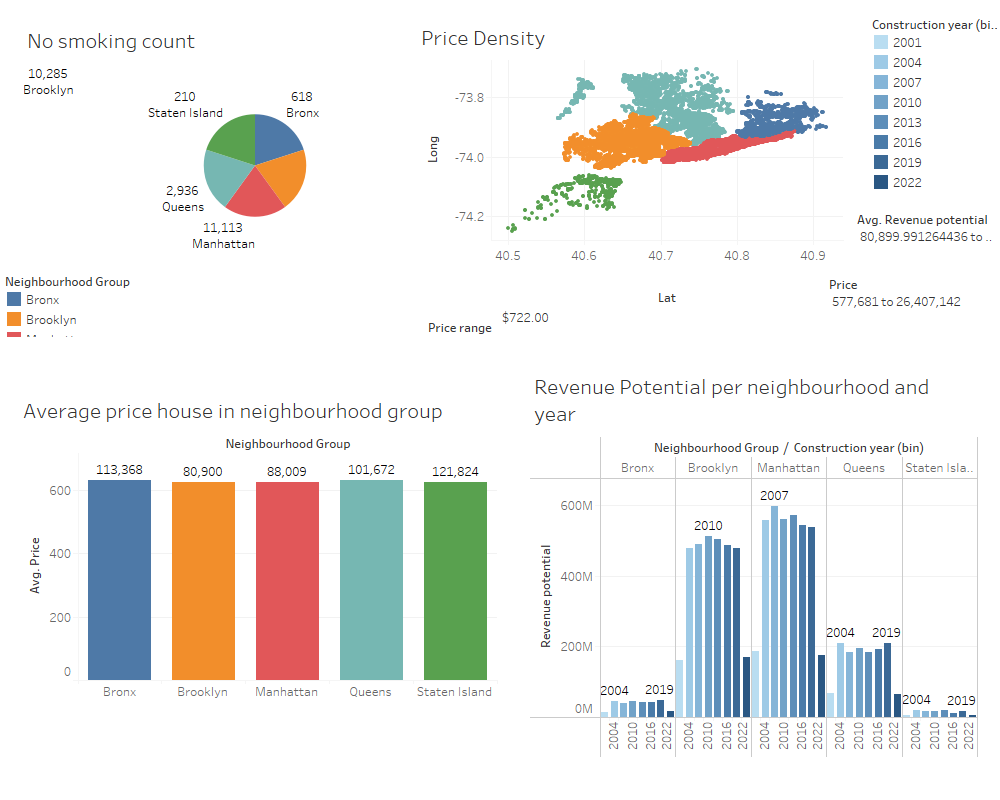

The page's visual inventory and layout, read from the dashboard file:
{"tool":"tableau","page":{"name":"Airbnb Analysis Dashboard","canvas":[1000,800],"ordinal":0},"visuals":[{"type":"legend","title":"Revenue Potential per neighbourhood and year ","param":"[federated.0hstwor1cok9kb1aqlz2915j1omm].[none:Construction year (bin):ok]","box":[871,14,126,178]},{"type":"worksheet","title":"Price Density","mark":"Automatic","rows":["long"],"cols":["lat"],"box":[417,17,426,296]},{"type":"worksheet","title":"No smoking count","mark":"Pie","box":[23,20,464,248]},{"type":"legend","title":"No smoking count","param":"[federated.0hstwor1cok9kb1aqlz2915j1omm].[sum:Calculation_3980337668648398852:qk","box":[559,182,164,55]},{"type":"filter","title":"Average price house in neighbourhood group","param":"[federated.0hstwor1cok9kb1aqlz2915j1omm].[avg:Calculation_3980337668647587842:qk","box":[857,210,140,62]},{"type":"legend","title":"No smoking count","param":"[federated.0hstwor1cok9kb1aqlz2915j1omm].[none:neighbourhood group:nk]","box":[4,271,215,66]},{"type":"filter","title":"Average price house in neighbourhood group","param":"[federated.0hstwor1cok9kb1aqlz2915j1omm].[sum:price:qk]","box":[829,275,151,73]},{"type":"parameter","param":"[Parameters].[Parameter 1]","box":[428,309,229,36]},{"type":"worksheet","title":"Revenue Potential per neighbourhood and year ","mark":"Automatic","rows":["Calculation_3980337668647587842"],"cols":["neighbourhood group","Construction year (bin)"],"box":[530,366,448,392]},{"type":"worksheet","title":"Average price house in neighbourhood group","mark":"Automatic","rows":["price"],"cols":["neighbourhood group"],"box":[19,390,478,330]}]}

Visuals, with their boxes in screenshot pixels (x1, y1, x2, y2), scaled from the page's 1000x800 canvas onto the 1000x800 screenshot:
"Revenue Potential per neighbourhood and year " legend: bbox=[871, 14, 997, 192]
"Price Density" worksheet: bbox=[417, 17, 843, 313]
"No smoking count" worksheet (Pie marks): bbox=[23, 20, 487, 268]
"No smoking count" legend: bbox=[559, 182, 723, 237]
"Average price house in neighbourhood group" filter: bbox=[857, 210, 997, 272]
"No smoking count" legend: bbox=[4, 271, 219, 337]
"Average price house in neighbourhood group" filter: bbox=[829, 275, 980, 348]
parameter: bbox=[428, 309, 657, 345]
"Revenue Potential per neighbourhood and year " worksheet: bbox=[530, 366, 978, 758]
"Average price house in neighbourhood group" worksheet: bbox=[19, 390, 497, 720]
